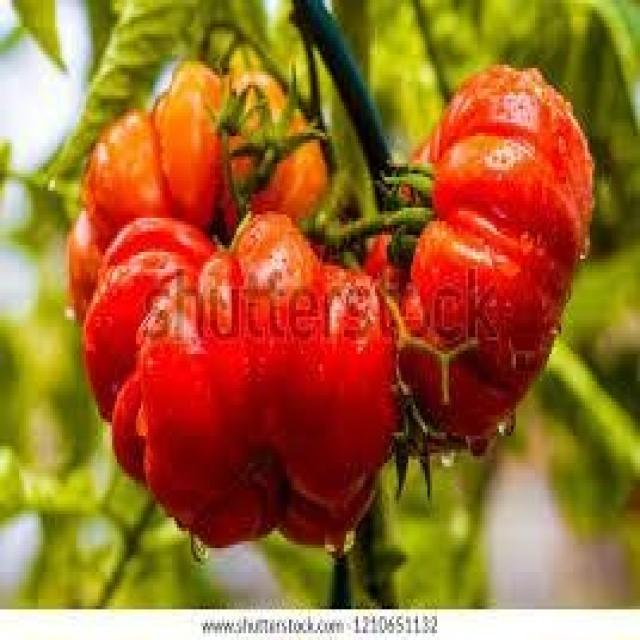bell_pepper: (78, 214, 416, 567), (362, 69, 603, 455)
